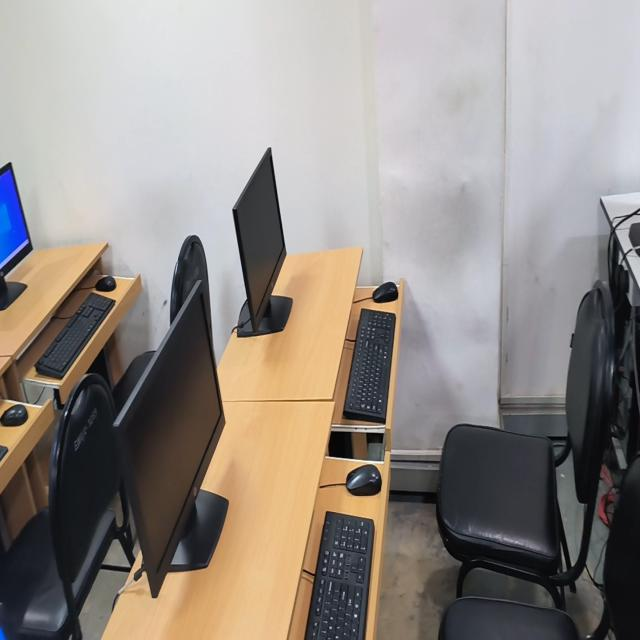Chair: (436, 281, 615, 639), (0, 375, 135, 639), (169, 235, 210, 324), (113, 351, 154, 412)
Keyboard: (305, 512, 374, 639), (36, 294, 114, 379), (344, 310, 395, 423)
Monitor: (113, 281, 224, 597), (233, 148, 286, 330), (0, 164, 33, 275)
Mouse: (346, 465, 382, 496), (0, 404, 28, 426), (372, 281, 398, 303), (95, 276, 116, 292)
